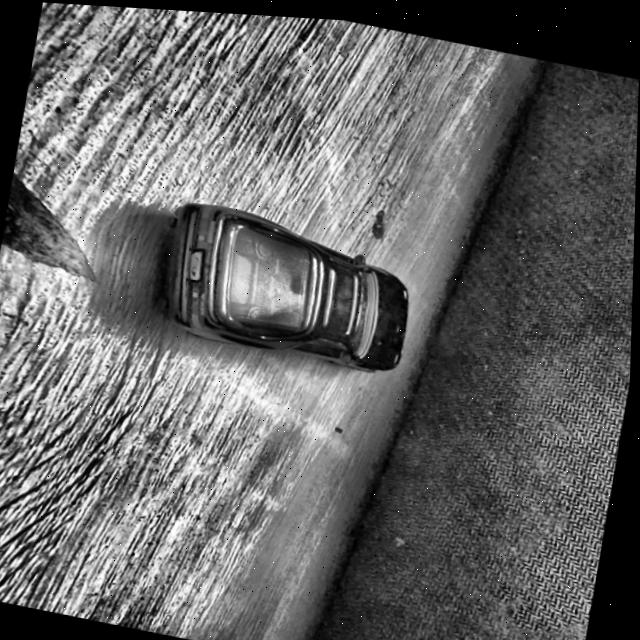car: (152, 194, 424, 376)
